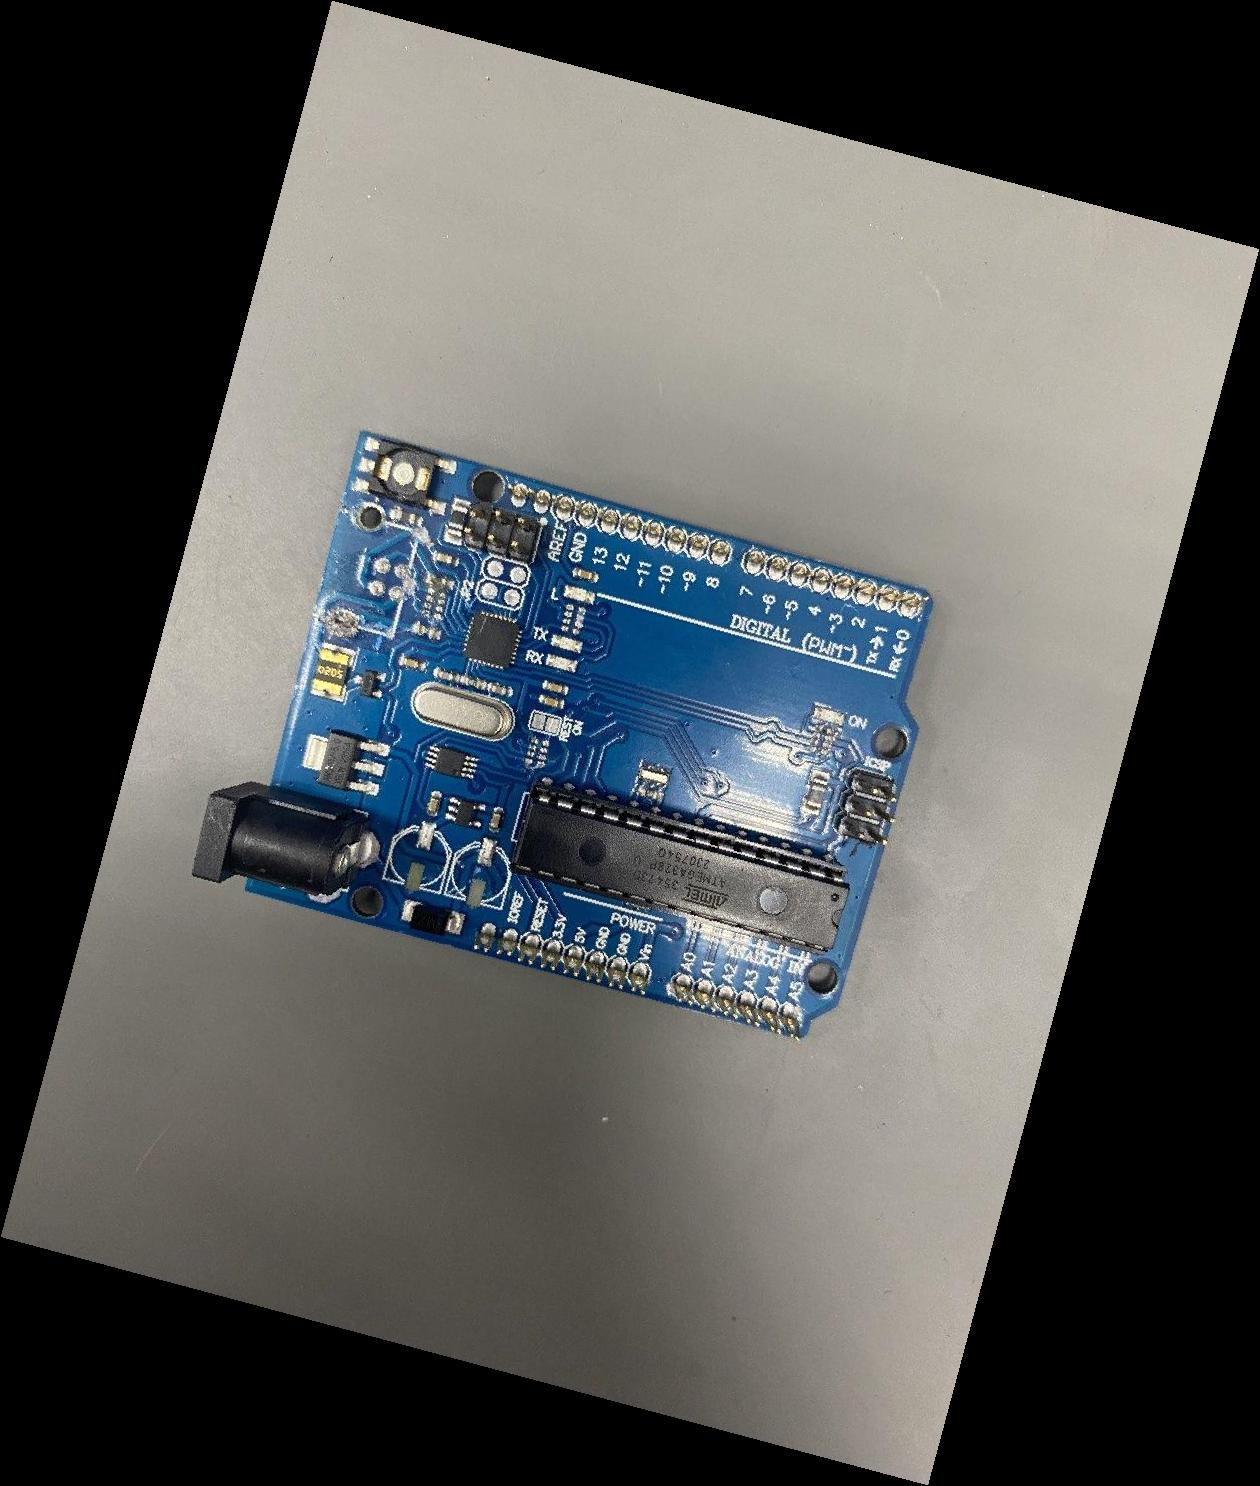ATmega328 chip: (509, 782, 850, 955)
Arduino board: (190, 427, 935, 1044)
